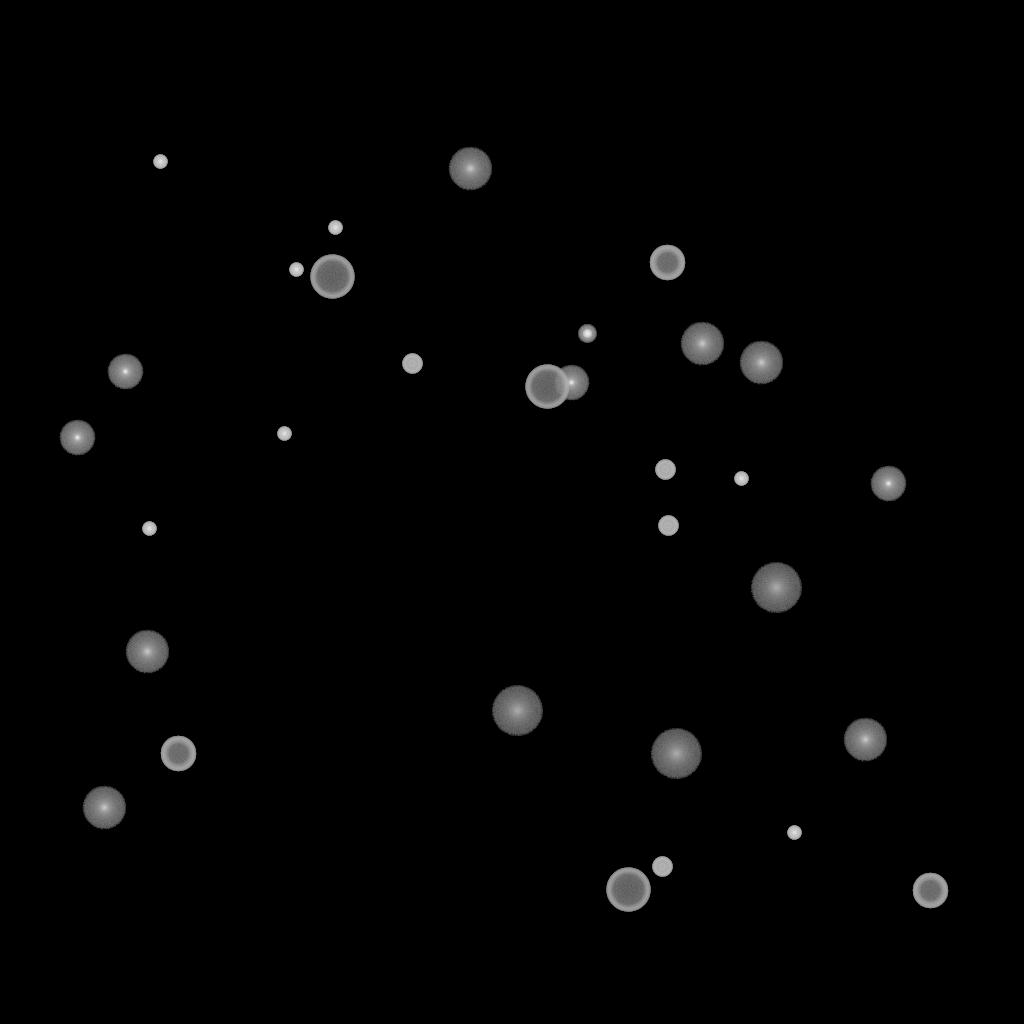depth:-20: (578, 325, 596, 343)
depth:-30: (328, 221, 342, 235), (153, 155, 167, 169), (277, 427, 291, 441), (289, 263, 303, 277), (787, 826, 801, 840), (142, 522, 156, 536), (734, 472, 748, 486)
depth:-40: (658, 516, 678, 536), (655, 460, 675, 480), (652, 857, 672, 877), (402, 354, 422, 374)
depth:-60: (160, 736, 196, 772), (649, 245, 685, 281), (912, 873, 948, 909)
depth:-70: (606, 868, 650, 912), (525, 365, 569, 409), (310, 255, 354, 299)
depth:0: (107, 354, 143, 390), (553, 365, 589, 401), (59, 420, 95, 456), (870, 466, 906, 502)
depth:10: (82, 786, 126, 830), (125, 630, 169, 674), (448, 147, 492, 191), (739, 341, 783, 385), (843, 718, 887, 762), (680, 322, 724, 366)
depth:20: (491, 686, 543, 736), (650, 729, 702, 779), (750, 563, 802, 613)
